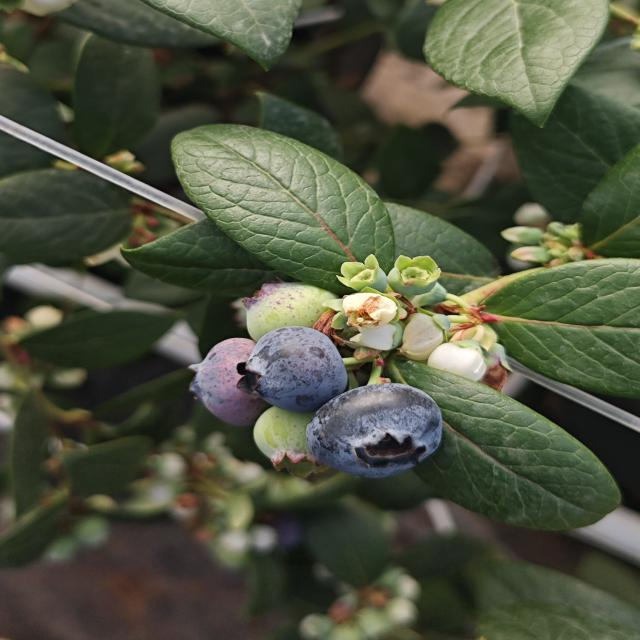ripe: (302, 381, 454, 476), (238, 317, 353, 418), (182, 333, 279, 427)
